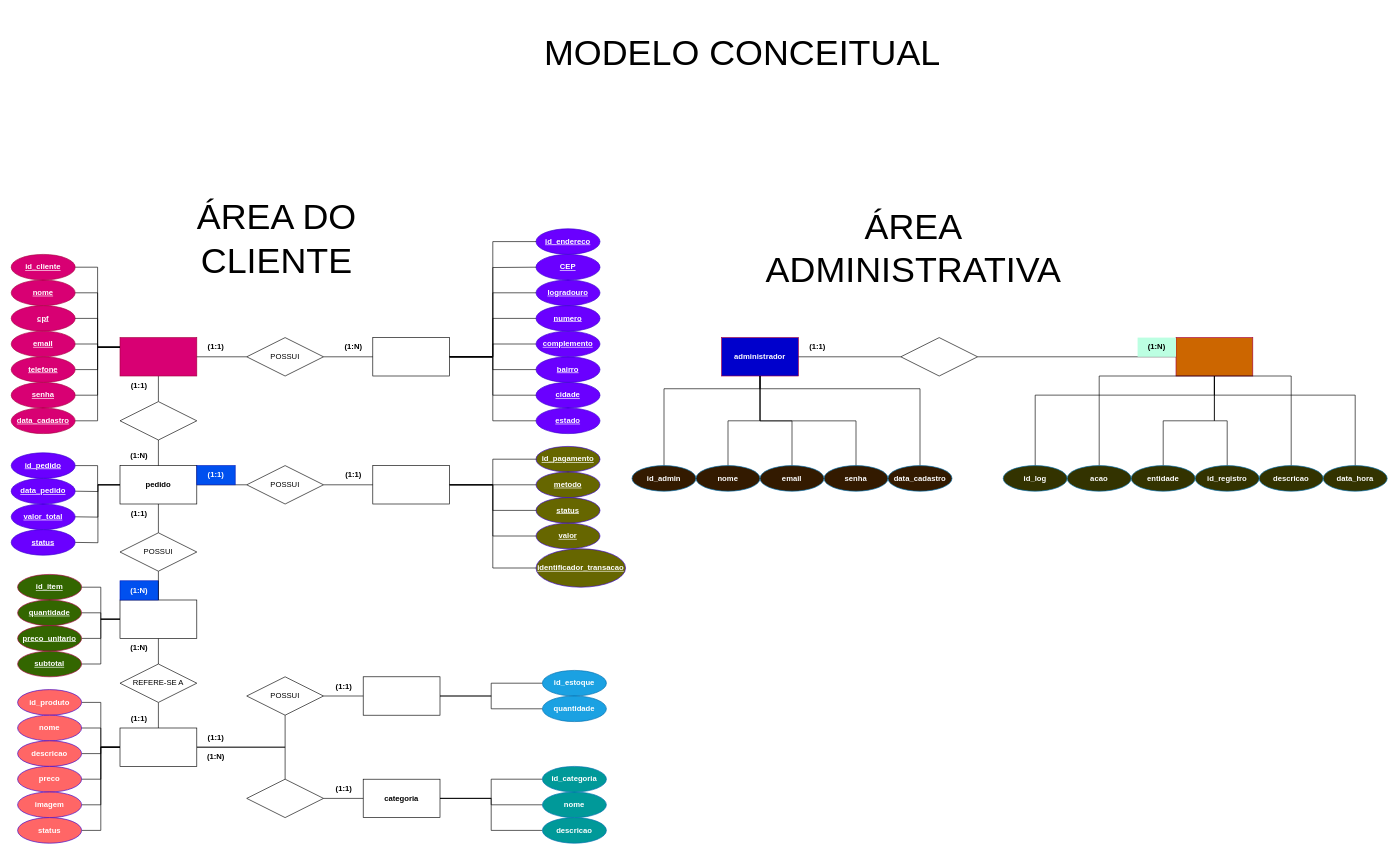
Image size: 1398x854. Some labels were removed from this diagram. The centre of each missing label's shape, as x and y in pixels:
"CLASSIFICA" goes at (285,798).
"cliente" goes at (158,356).
"endereco" goes at (411,356).
"estoque" goes at (401,695).
"FAZ" goes at (158,420).
"GERA" goes at (939,356).
"item_pedido" goes at (158,618).
"log_administrativo" goes at (1214,356).
"pagamento" goes at (411,484).
"produto" goes at (158,746).
